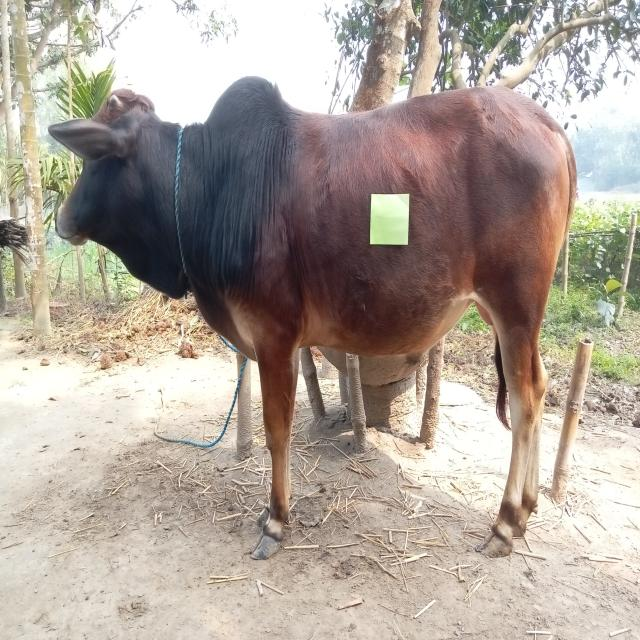badan_sapi: (253, 112, 559, 354)
sapi: (51, 76, 581, 559)
